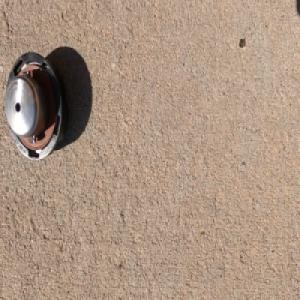FuelCap: (3, 50, 68, 165)
